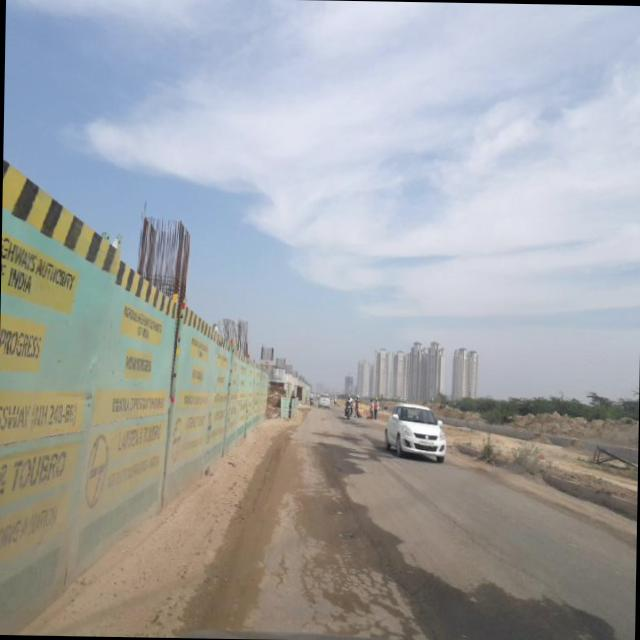crack: (267, 467, 433, 640)
pothole: (322, 452, 438, 636), (388, 469, 502, 562)
